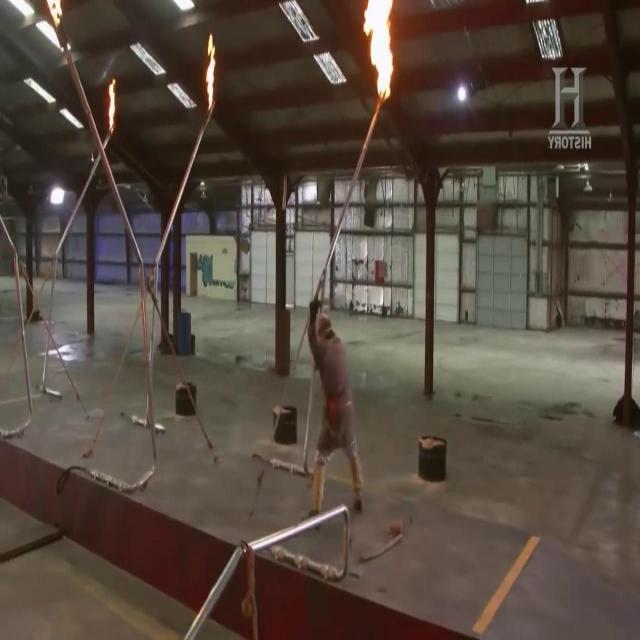Fire: (359, 7, 404, 98), (194, 35, 227, 109), (100, 79, 130, 135)
